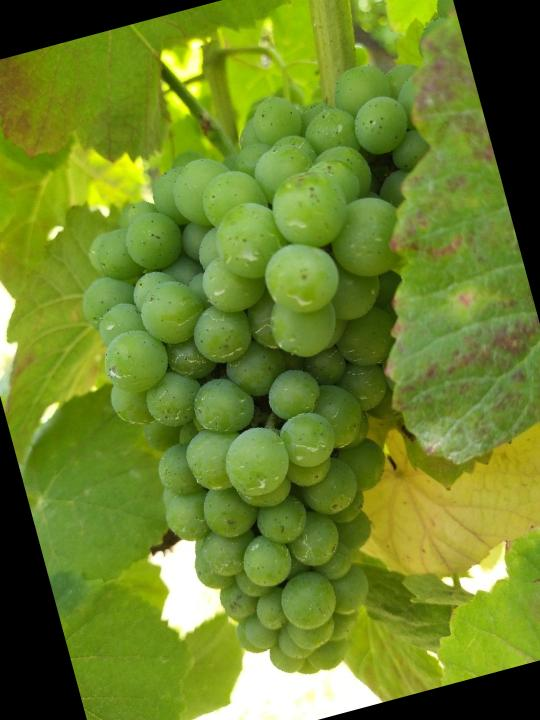grape: (40, 52, 540, 711)
